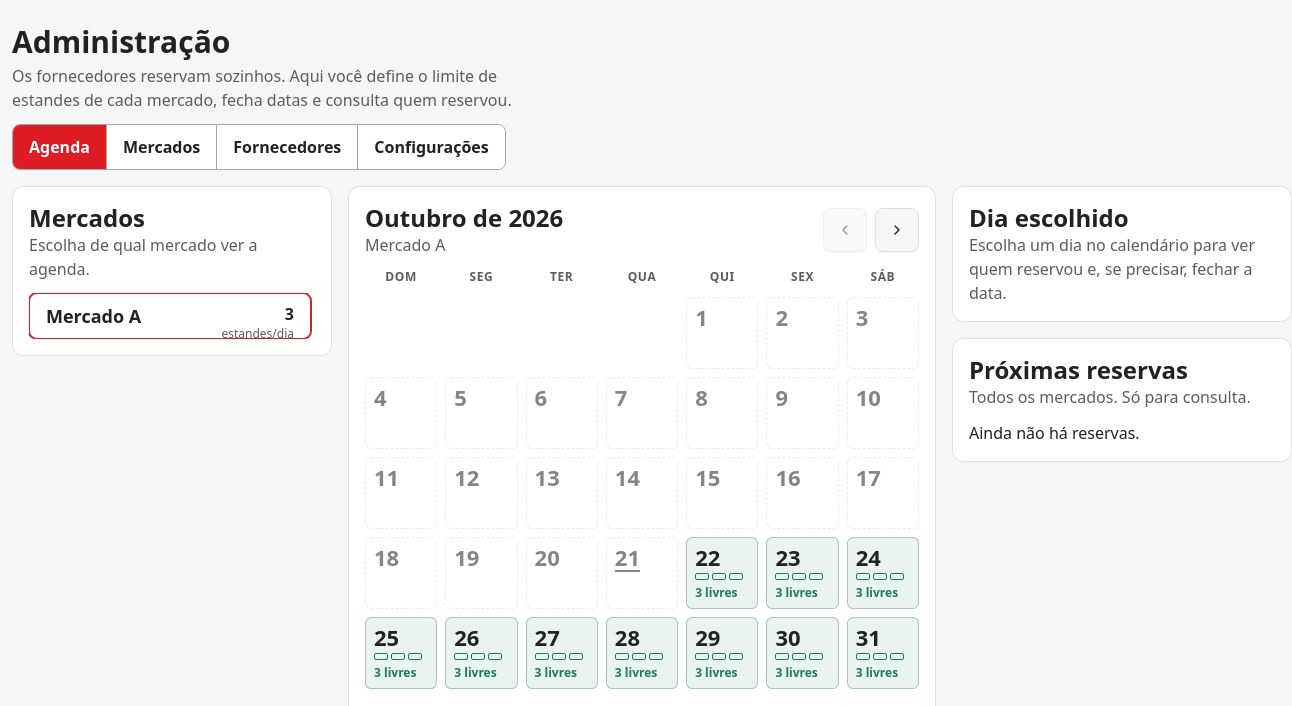
aba Fornecedores › lista os fornecedores, com os desativados no fim e marcados
Click the button "Fornecedores".
click(287, 147)  # box [216,125,357,169]
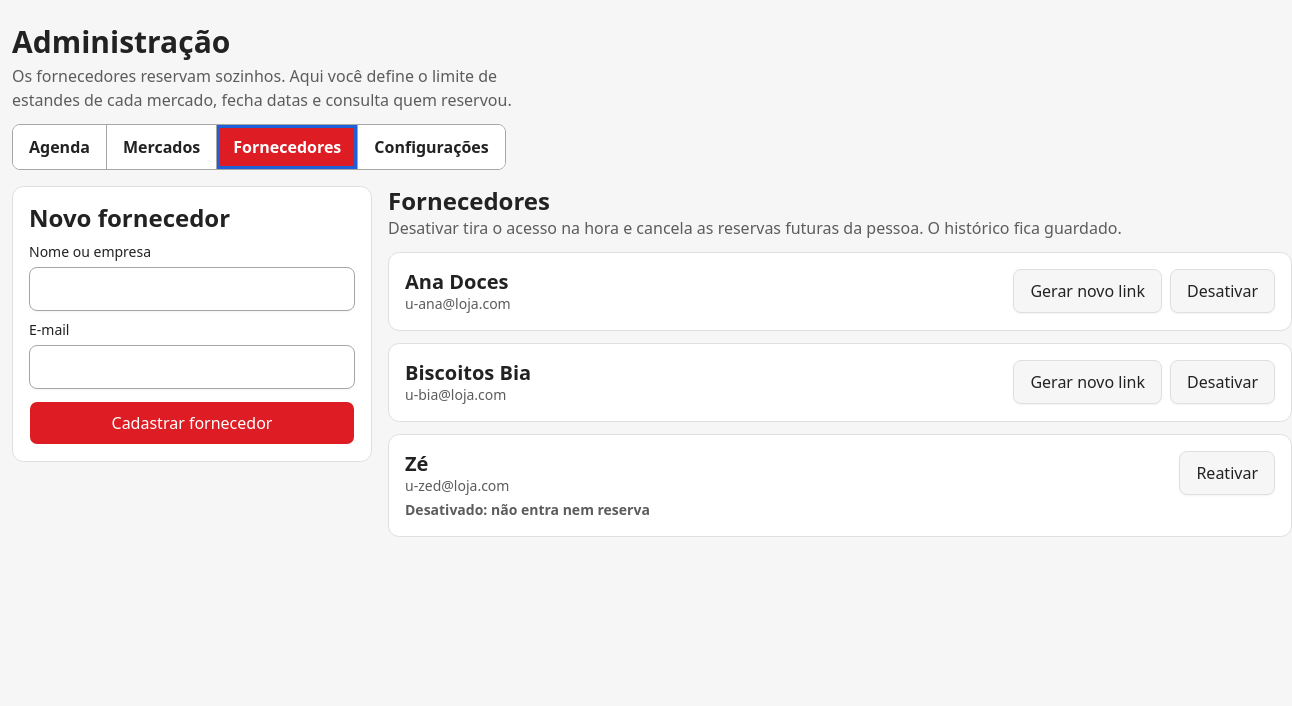
Expected: the headings read "Ana Doces", "Biscoitos Bia", "Zé", in this order, [405,269,511,294]; [405,360,531,385]; [405,450,428,477]
Expected: the text "Desativado: não entra nem reserva" is shown, [405,500,650,520]
Expected: the text "u-ana@loja.com" is shown, [405,294,511,314]
